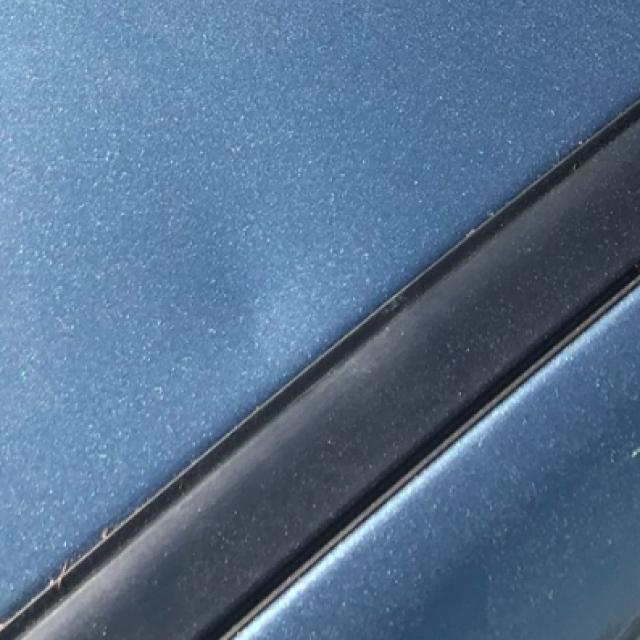dents: (199, 234, 366, 368)
